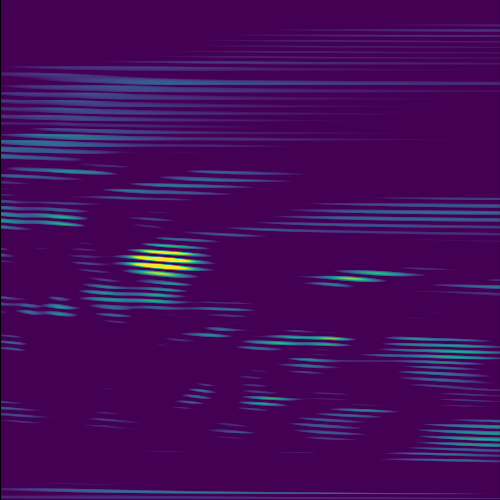semblance: (117, 249, 216, 281)
